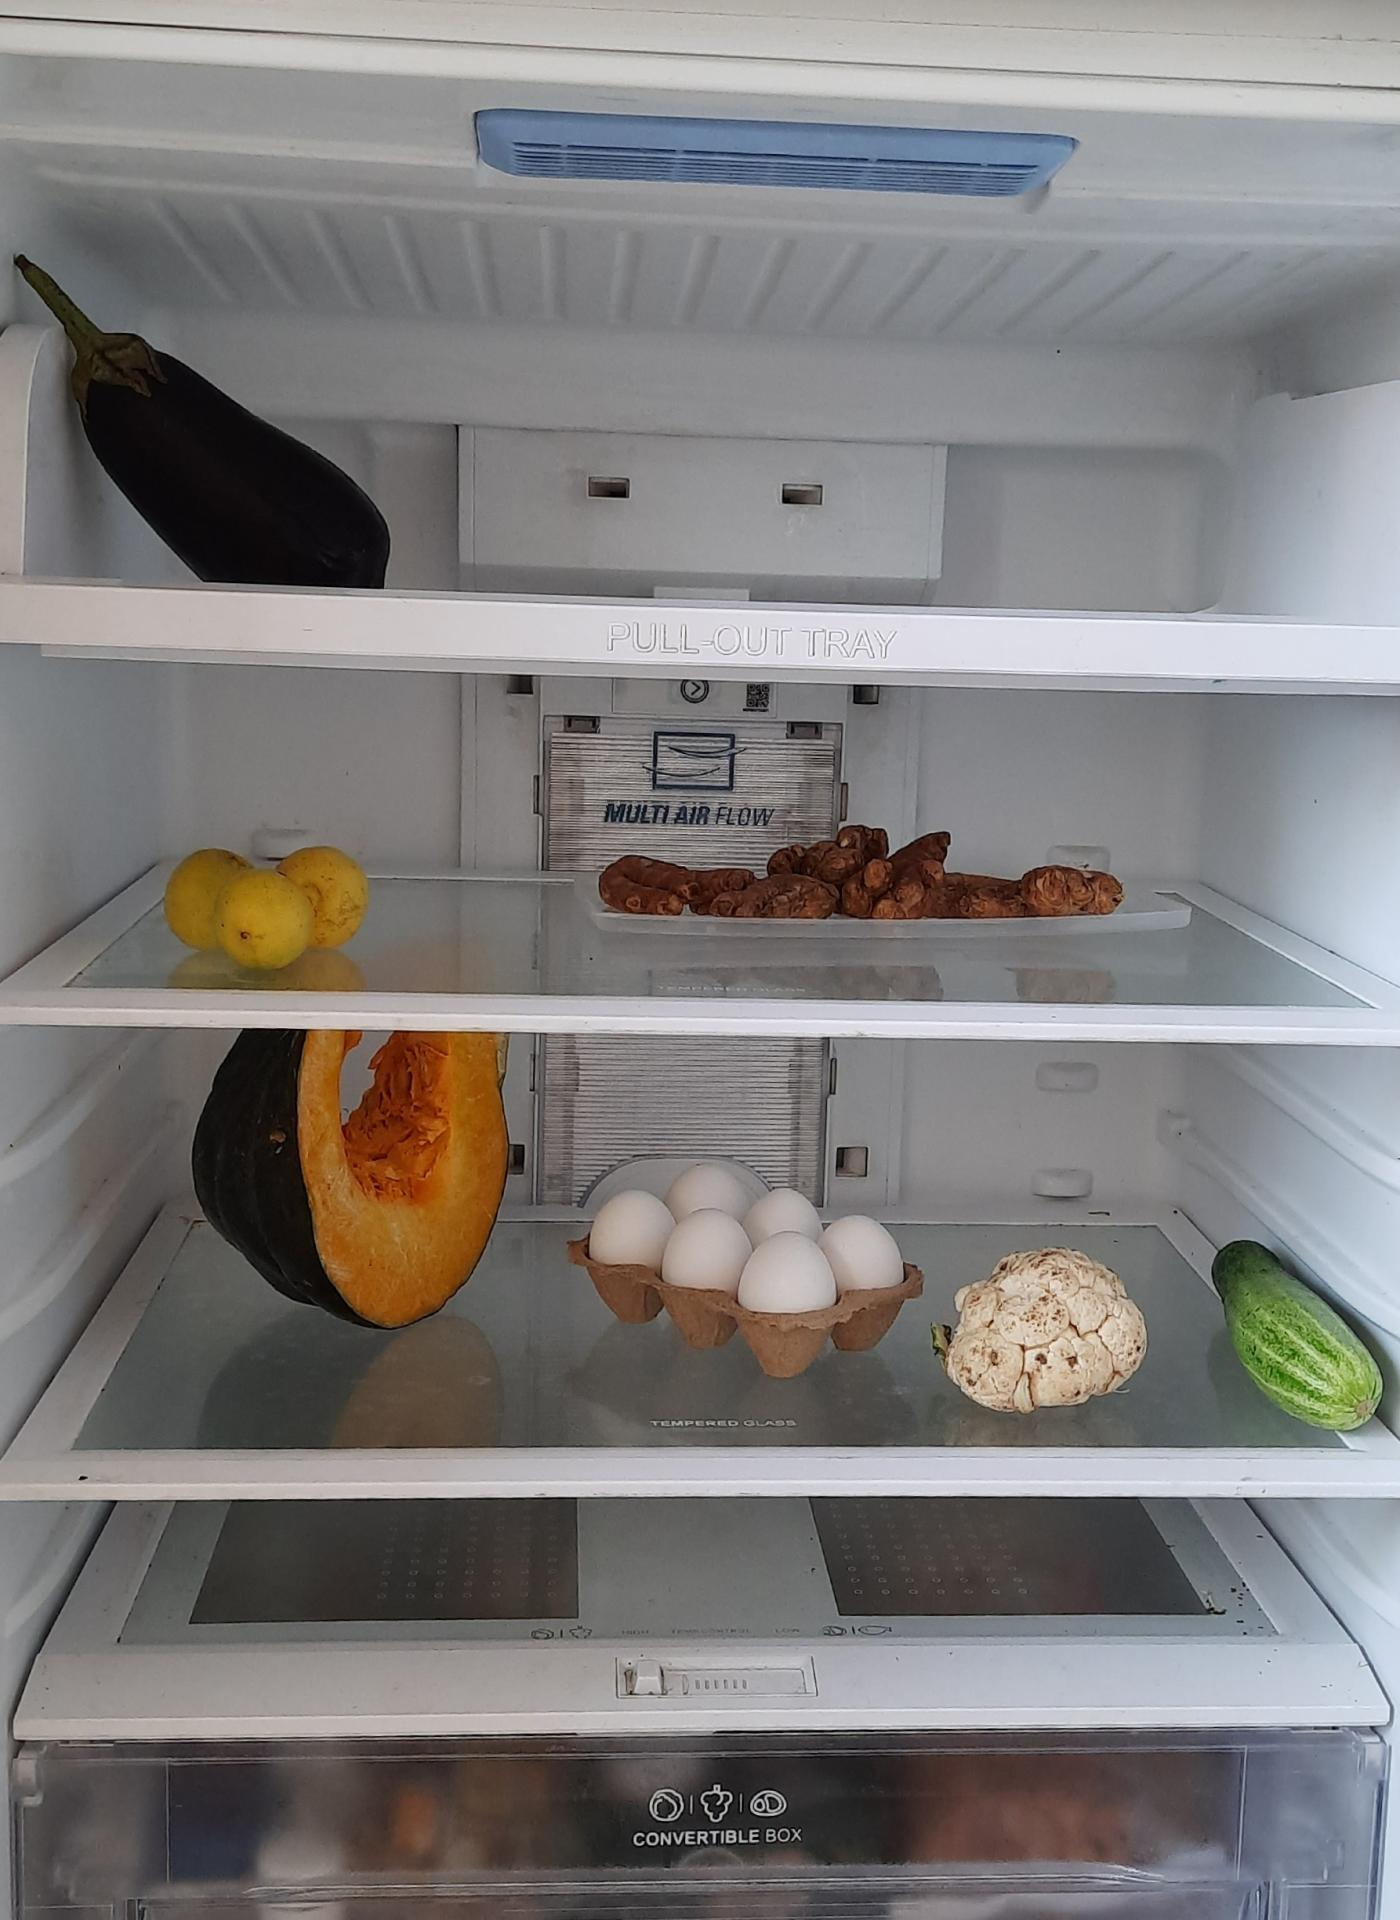brinjal: (7, 246, 392, 592)
cauliflower: (941, 1243, 1154, 1413)
cucumber: (1224, 1233, 1393, 1427)
egg: (573, 1154, 920, 1322)
ginger: (587, 814, 1129, 933)
lemon: (161, 836, 374, 966)
pumpkin: (188, 1021, 511, 1322)
